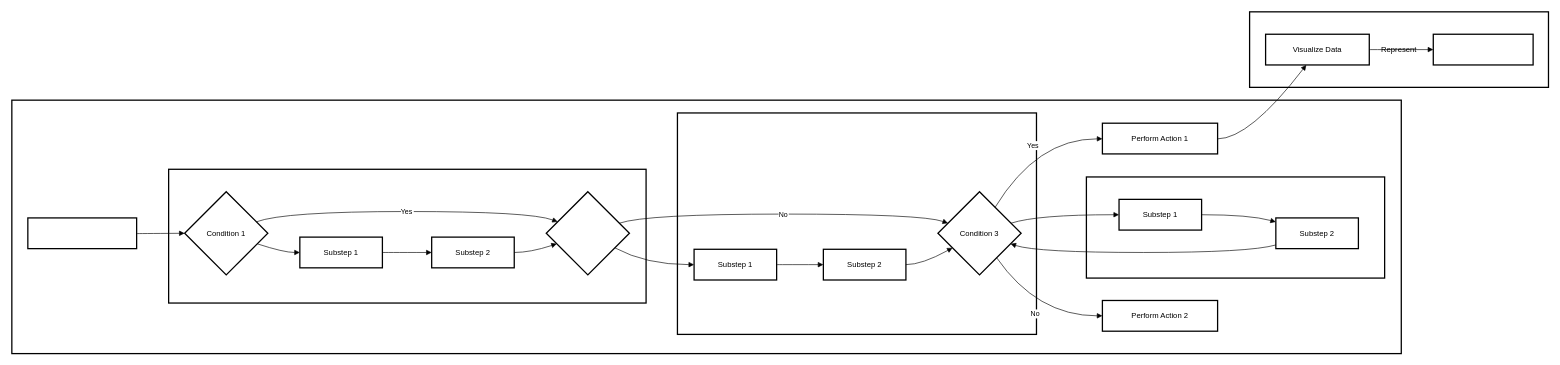
Image size: 1560x365. Some labels were removed from this diagram. The box of each missing label's shape, as (x1, y1, x2, y2) in pixels:
Condition 2: (545, 191, 630, 275)
Create Graph: (1432, 33, 1533, 65)
Initiate Process: (27, 217, 137, 249)
Subprocess A: (168, 168, 646, 303)
Subprocess B: (676, 112, 1037, 335)
Subprocess C: (1085, 176, 1385, 278)
